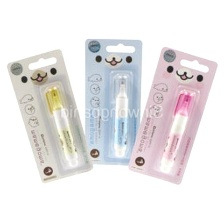book: (126, 44, 219, 187), (5, 47, 96, 185), (82, 35, 144, 168)
correction_fluid: (159, 88, 198, 174), (43, 85, 82, 169), (110, 73, 133, 158)
